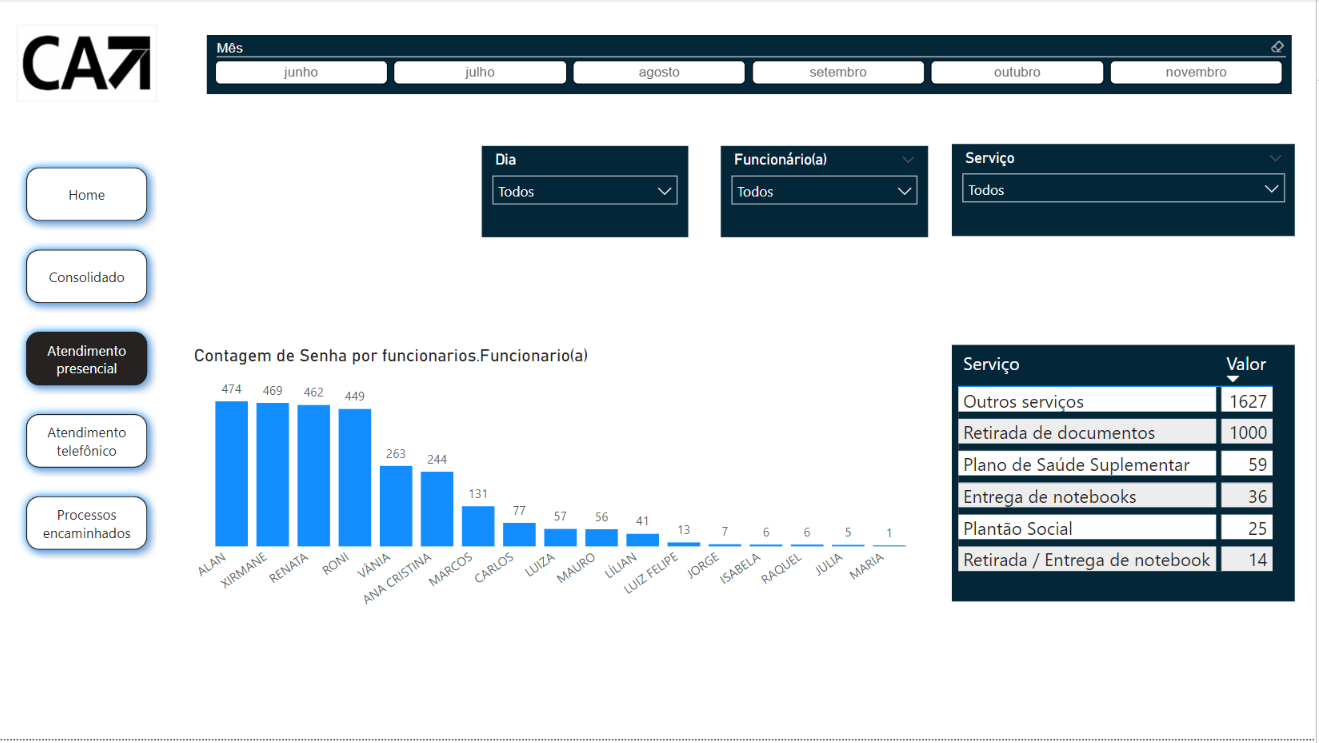

This screenshot's page, from the dashboard's own definition file:
{"tool":"powerbi","page":{"name":"Presencial","canvas":[1280,720],"ordinal":1},"visuals":[{"type":"clusteredColumnChart","title":"Atendimentos presenciais por funcionário (a)","fields":{"Y":["CountNonNull(atendimento_presencial.Senha)"],"Category":["dados_funcionarios.Funcionario(a)"]},"box":[196.7,277.5,584.8,408.3],"z":0},{"type":"tableEx","fields":{"Values":["atendimento_presencial.servicoTriado","atendimento_presencial.Senha"]},"box":[815.7,272.2,433.8,151],"z":1000},{"type":"card","fields":{"Values":["CountNonNull(atendimento_presencial.Senha)"]},"box":[188.8,124.7,251.1,113.3],"z":2000},{"type":"slicer","fields":{"Values":["Calendario.Dia"]},"box":[460.2,146.9,200.5,88.9],"z":3000},{"type":"slicer","fields":{"Values":["funcionarios.Funcionario(a)"]},"box":[692.3,146.9,201.5,88.9],"z":4000},{"type":"image","box":[19.5,35,136.2,74.9],"z":5000},{"type":"pageNavigator","box":[18.5,154.7,136.2,392.9],"z":6000},{"type":"slicer","fields":{"Values":["atendimento_presencial.servicoTriado"]},"box":[917.4,144.9,333.8,89.9],"z":7000},{"type":"slicer","fields":{"Values":["Calendario.Ano"]},"box":[203.5,36.8,103.5,61.4],"z":8000},{"type":"slicer","fields":{"Values":["Calendario.Data.Variation.Hierarquia de datas.Mês"]},"box":[310.5,46.5,941.9,57.9],"z":9000},{"type":"clusteredColumnChart","title":"Atendimentos por hora","fields":{"Category":["atendimento_presencial.Intervalo"],"Y":["CountNonNull(atendimento_presencial.Senha)"]},"box":[815.7,461,436.4,224.8],"z":10000}]}

Visuals, with their boxes on the page's 1280x720 design canvas (x1, y1, x2, y2). These are canvas units, not pixel positions in the 1319x743 screenshot, which may show the page scaled, cropped or inside an application window:
"Atendimentos presenciais por funcionário (a)" clusteredColumnChart: 197/278/782/686
tableEx - atendimento_presencial.servicoTriado x atendimento_presencial.Senha: 816/272/1250/423
card - CountNonNull(atendimento_presencial.Senha): 189/125/440/238
slicer - Calendario.Dia: 460/147/661/236
slicer - funcionarios.Funcionario(a): 692/147/894/236
image: 20/35/156/110
pageNavigator: 18/155/155/548
slicer - atendimento_presencial.servicoTriado: 917/145/1251/235
slicer - Calendario.Ano: 204/37/307/98
slicer - Calendario.Data.Variation.Hierarquia de datas.Mês: 310/46/1252/104
"Atendimentos por hora" clusteredColumnChart: 816/461/1252/686
